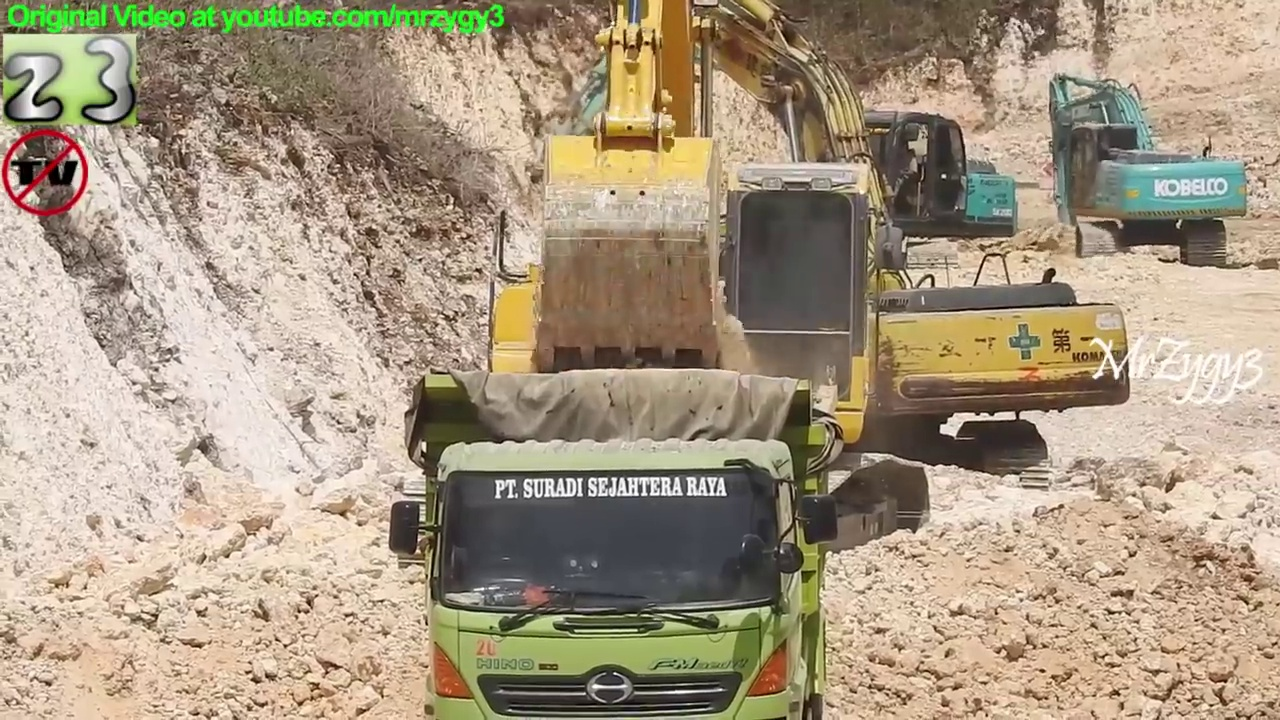excavator: (387, 1, 941, 588), (589, 1, 1140, 516), (536, 1, 1027, 285), (1041, 65, 1254, 274)
truck: (382, 357, 853, 720)
